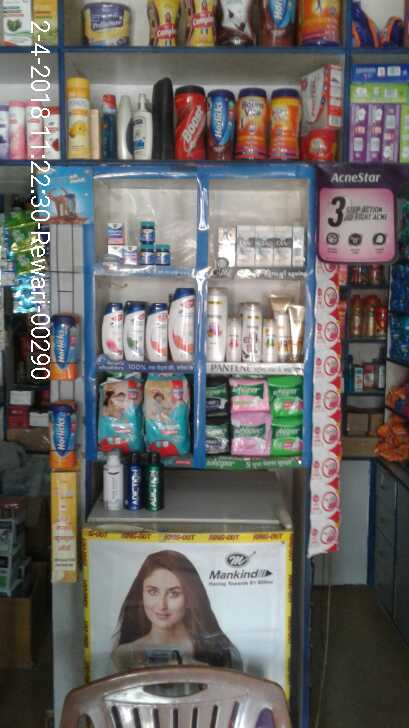vicks: (105, 218, 170, 267)
